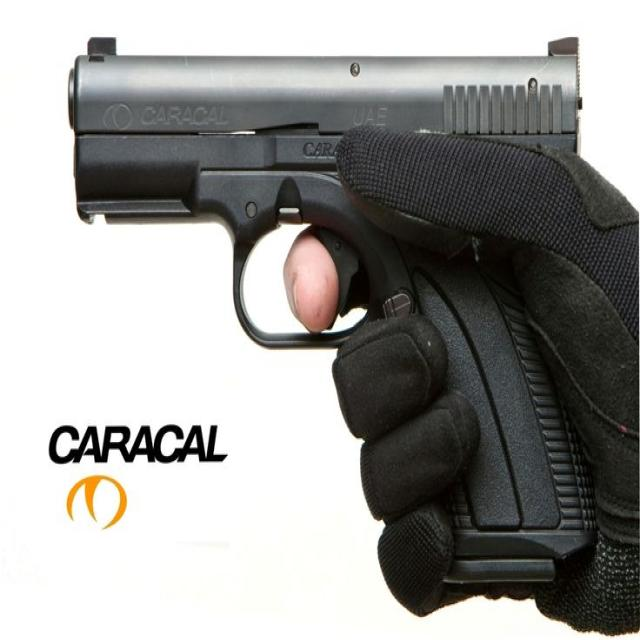Gun: (47, 31, 591, 597)
